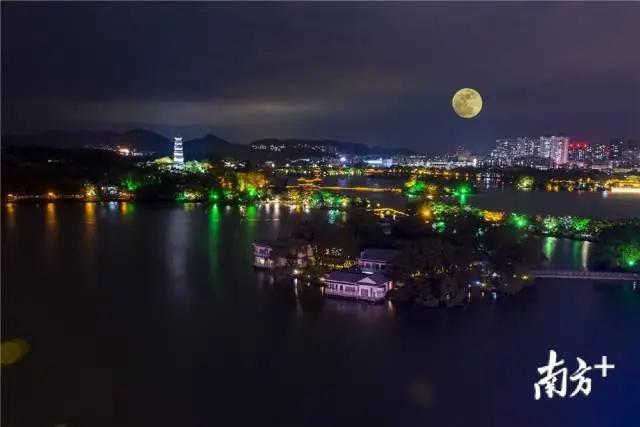sea_river: (32, 225, 259, 404)
sky_cloud: (15, 61, 636, 133)
